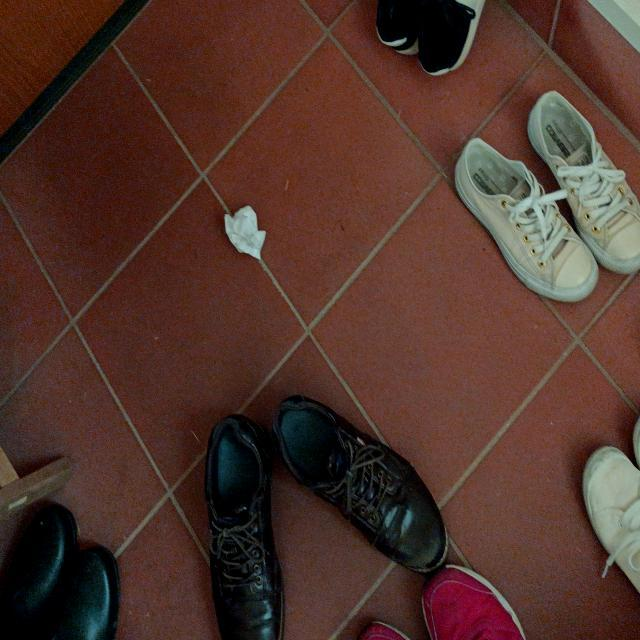Paper: (223, 203, 270, 263)
